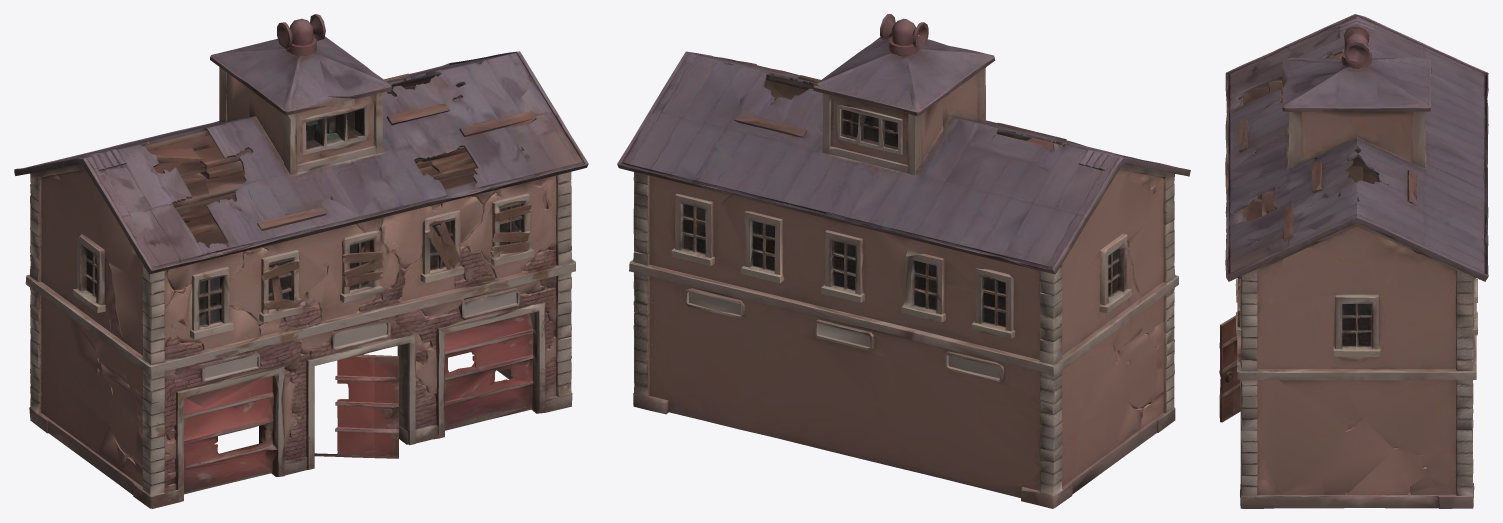
File: house_garage_b.glb
3 renders of one model, left to right at view 1: azimuth 30°, elevation 25°; view 2: azimuth 150°, elevation 25°; view 3: azimuth 270°, elevation 25°, orthographic. The views are drawn at different scales.
Parts seen in each view (by area): view 1: body, door_r, door_l, door_m; view 2: body; view 3: body, door_m.
Part boxes in pixels (bbox=[...]): body: bbox=[14, 14, 588, 508]; door_r: bbox=[444, 315, 524, 435]; door_l: bbox=[184, 376, 270, 493]; door_m: bbox=[316, 347, 387, 457]; body: bbox=[617, 14, 1190, 508]; body: bbox=[1219, 14, 1488, 508]; door_m: bbox=[1233, 315, 1240, 415].
Bounding box in the file's own units: 12 × 10.34 × 6.68.
3 materials, 3 textured.
